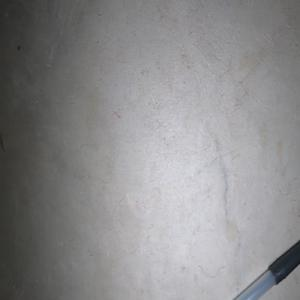Pen: (234, 240, 300, 300)
